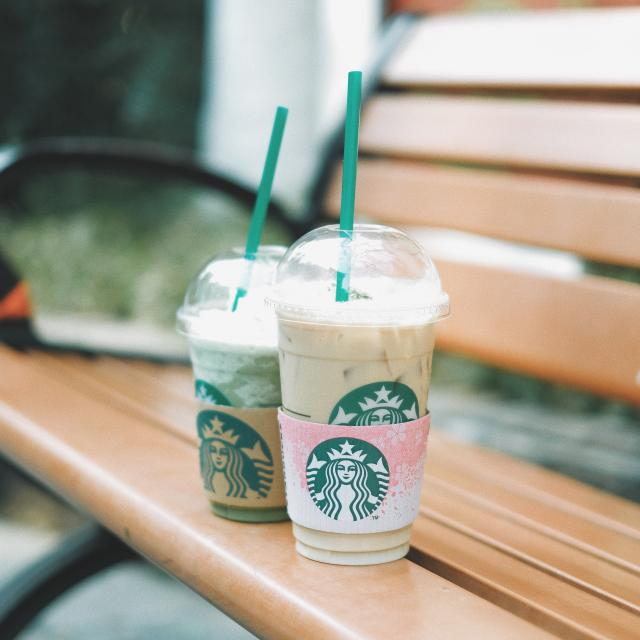cup: (266, 223, 450, 566), (178, 244, 294, 523)
